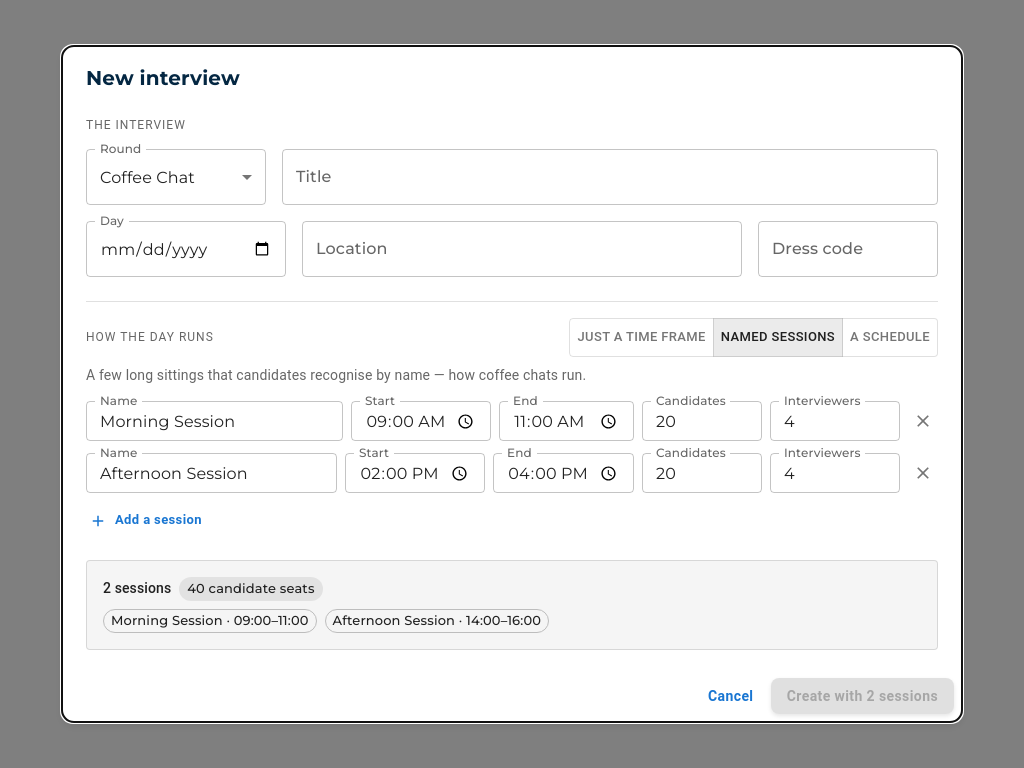
InterviewCreateDialog › opens first round as a time frame with no sessions
Click the dropdown named "round": (148, 177) [100,168,195,187]
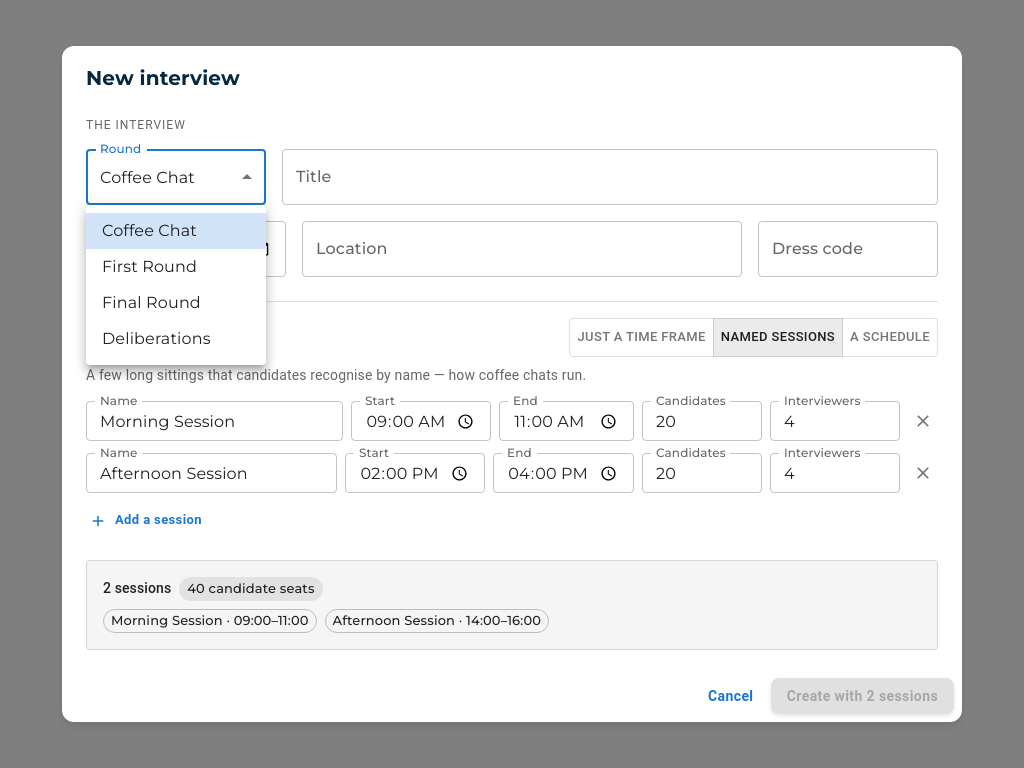
Click the option "First Round": (150, 266) [102,257,197,276]
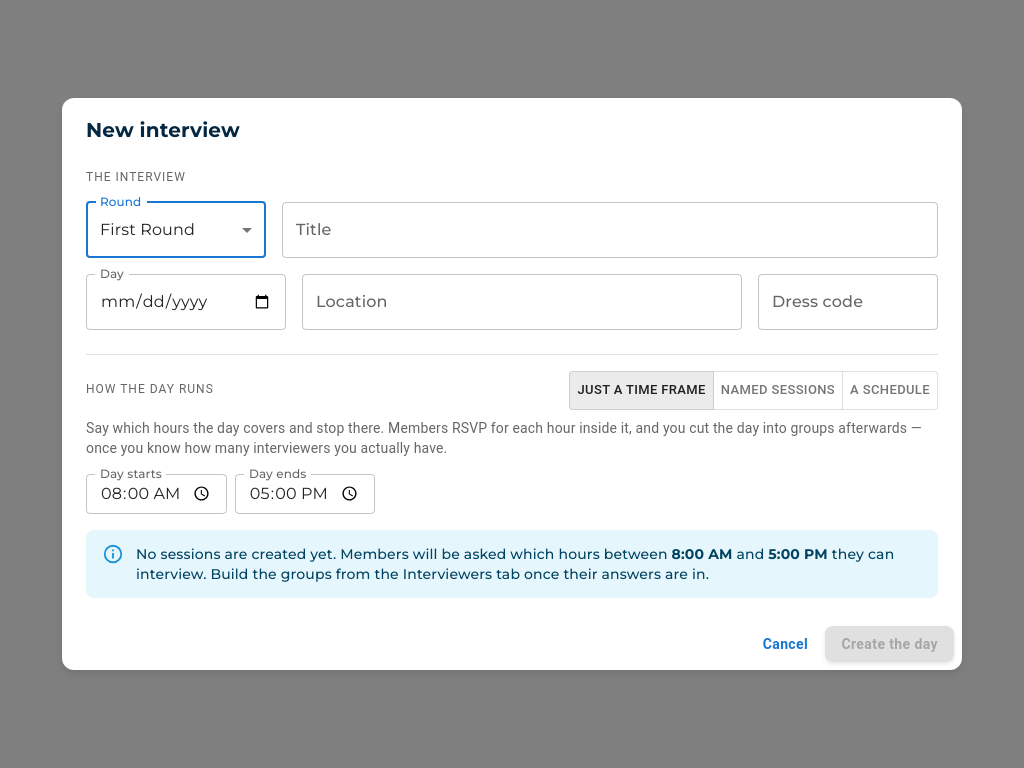
Result: the text "No sessions are created yet" is shown at [136,545,668,563]
Result: the text "candidate seats" is gone
Result: the button "Create the day" is shown at [825,626,954,662]
